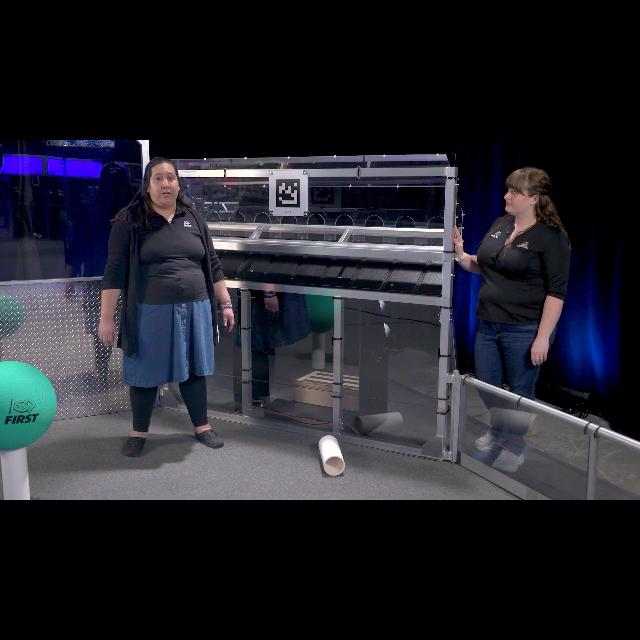ALGAE: (0, 361, 56, 450)
CORAL: (1, 446, 32, 499), (318, 436, 346, 476)
